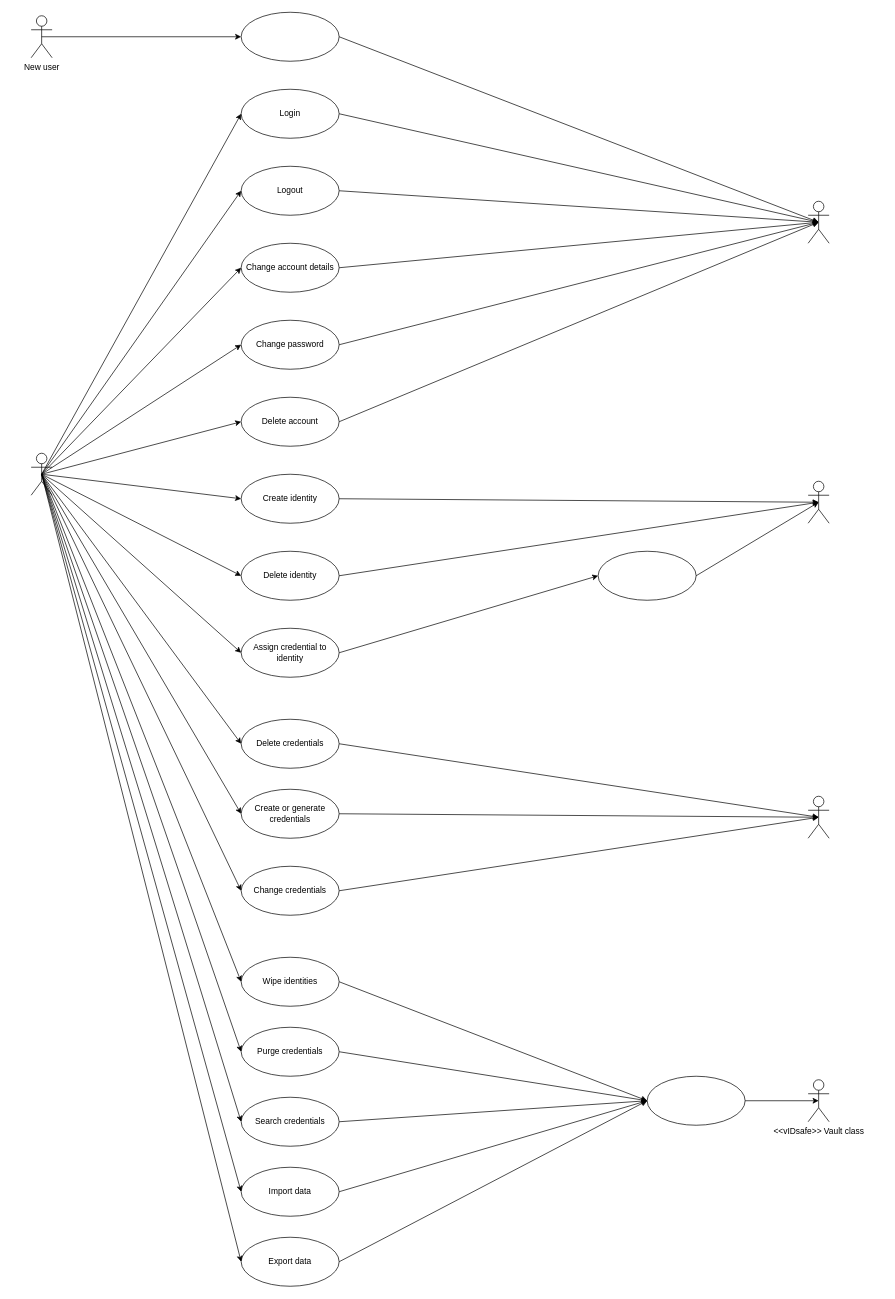
The diagram is 895 pixels wide and 1299 high, and some of its shapes have lost their labels. Here are the shapes that lost their labels. From the top down, the centre of each, then its label:
At point (289, 36): "Register".
At point (818, 222): "<<vIDsafe>> Master account class".
At point (41, 474): "Registered user".
At point (818, 502): "<<vIDsafe>> Identity class".
At point (646, 575): "Calculate health score".
At point (818, 817): "<<vIDsafe>> Credential class".
At point (695, 1100): "View vault".
